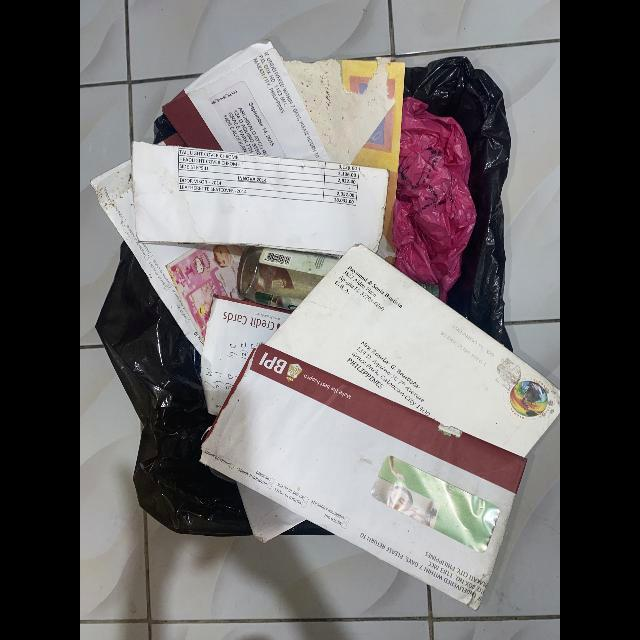paper: (197, 342, 528, 611), (267, 241, 560, 460), (90, 157, 251, 359), (132, 137, 390, 255), (283, 59, 406, 263), (160, 44, 331, 165), (201, 291, 292, 417)
plastic_bag: (392, 98, 476, 305)
